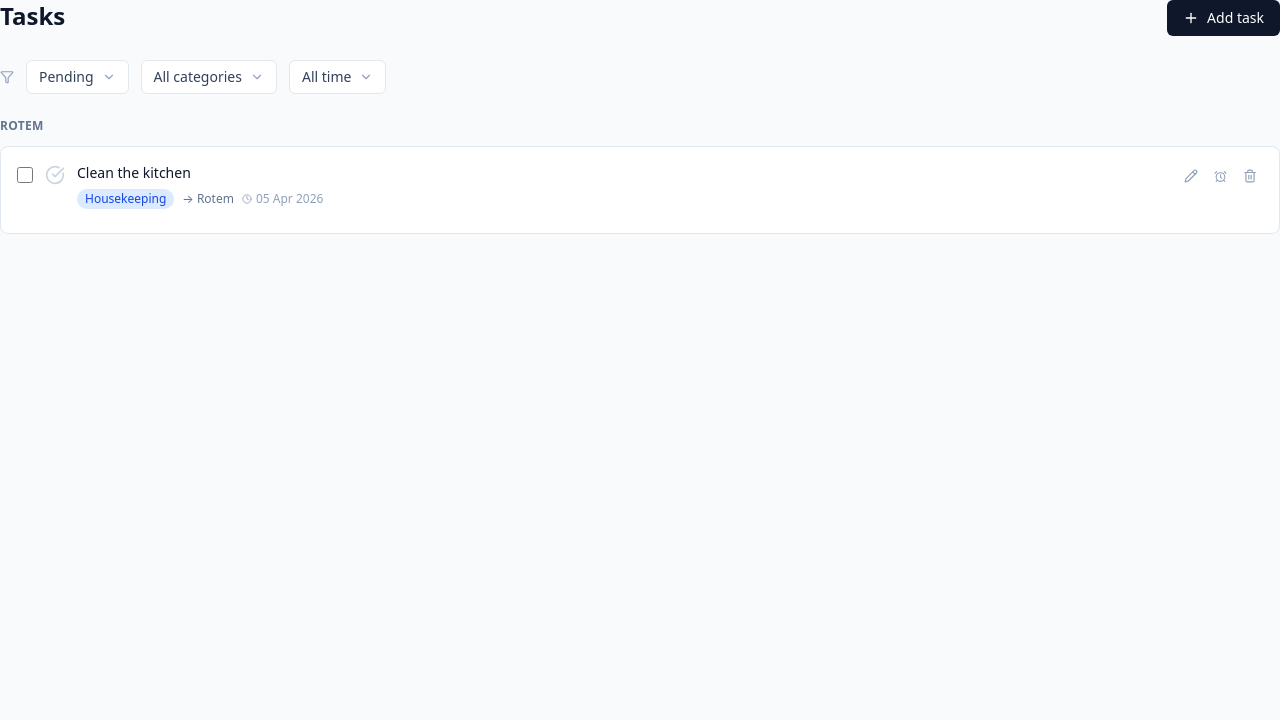
it: Tasks › "Add task" opens create modal
Click the button "Add task".
click(1224, 18)  # box [1167, 0, 1279, 36]
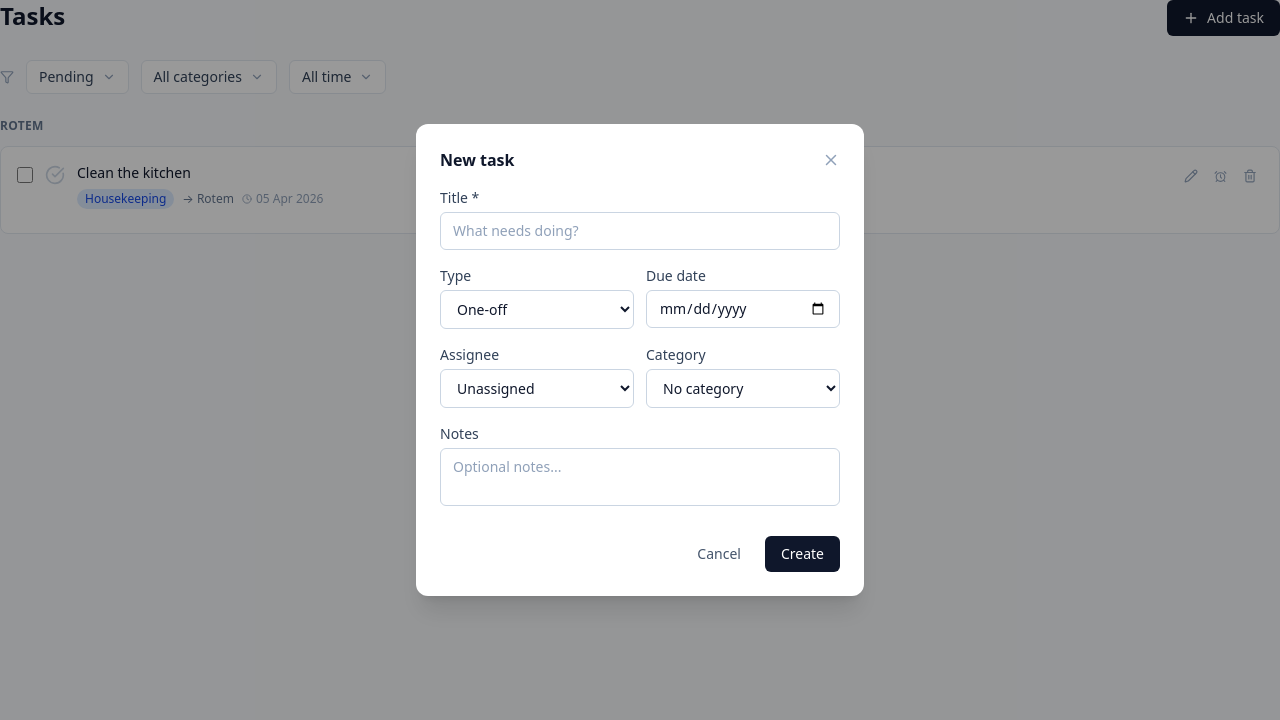
Result: the dialog is shown
Result: the heading "New task" is shown at [440, 148, 514, 172]
